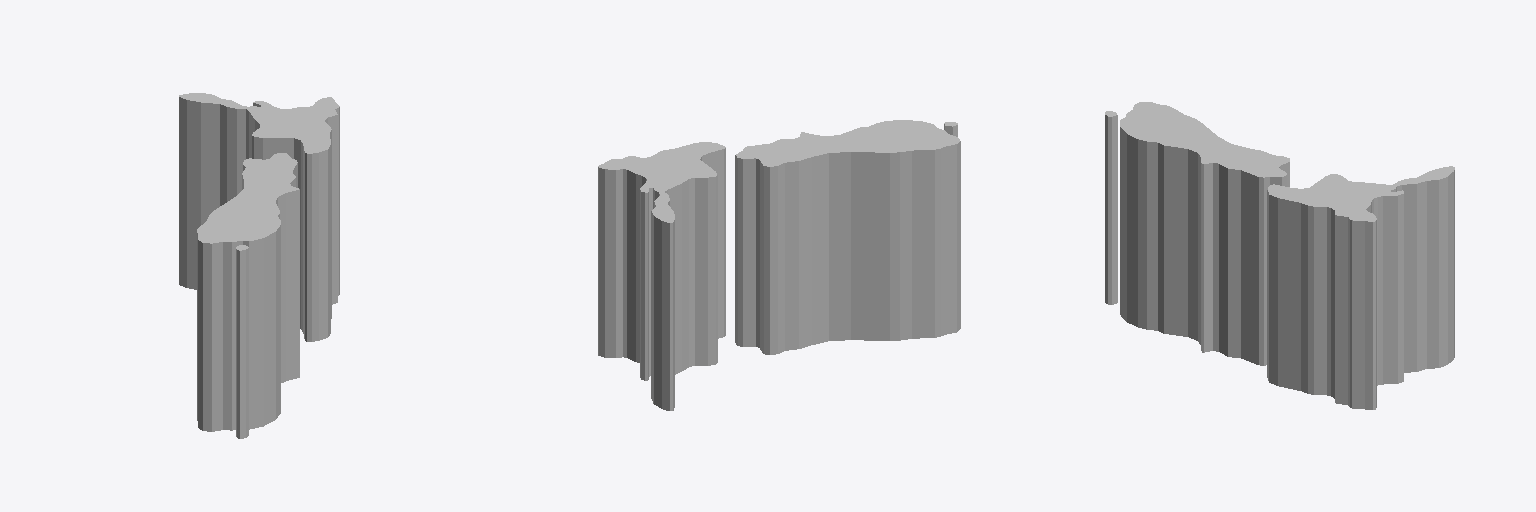
3 views of the same model, side by side, from view 1: azimuth 30°, elevation 25°; view 2: azimuth 150°, elevation 25°; view 3: azimuth 270°, elevation 25° (orthographic).
Visible parts, largest first — view 1: NZ.002_CUCurve.1735; view 2: NZ.002_CUCurve.1735; view 3: NZ.002_CUCurve.1735.
Boxes of the visible parts, box(x1,y1,x2,y2) form: NZ.002_CUCurve.1735: box(179, 93, 339, 438); NZ.002_CUCurve.1735: box(598, 120, 960, 410); NZ.002_CUCurve.1735: box(1105, 102, 1454, 409).
Bounding box in the file's own units: 0.0686 × 0.05 × 0.0842.